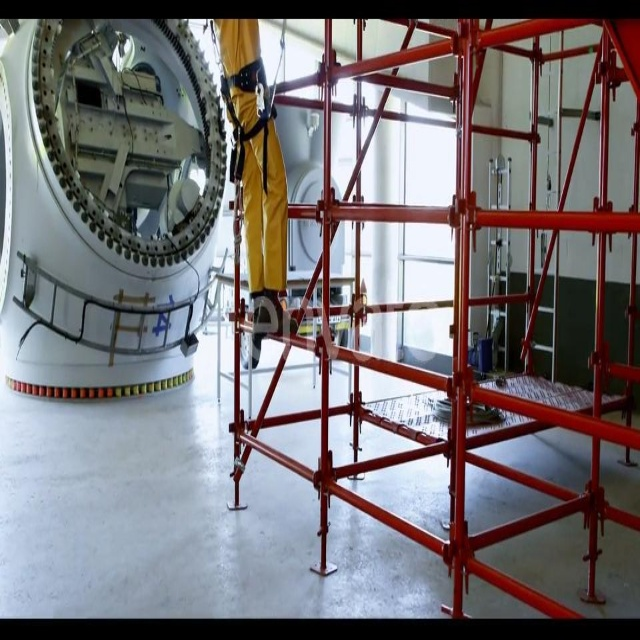Arnes_seguridad: (206, 10, 286, 196)
